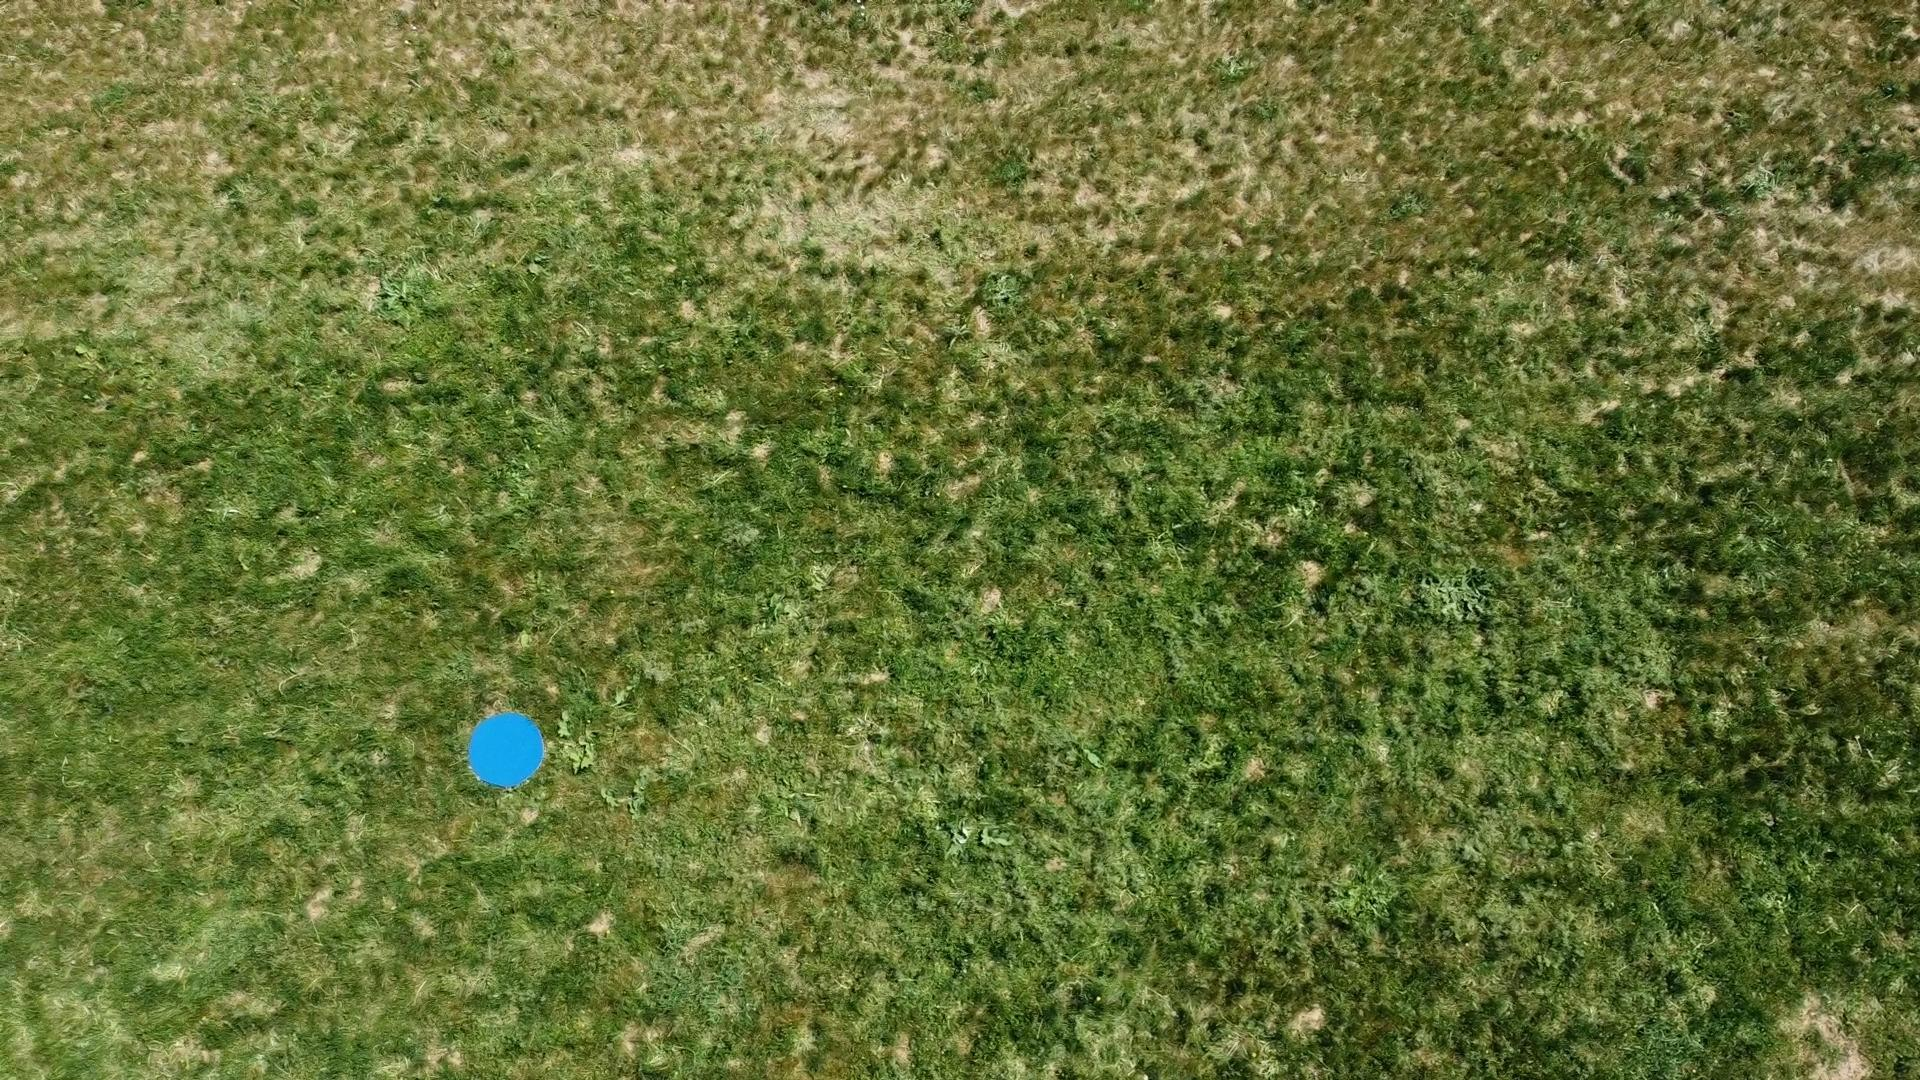Blue: (464, 711, 549, 790)
